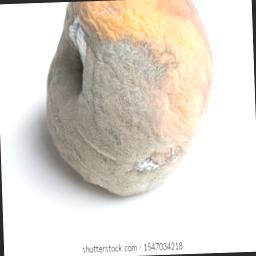Peach Rotten: (31, 0, 224, 201)
